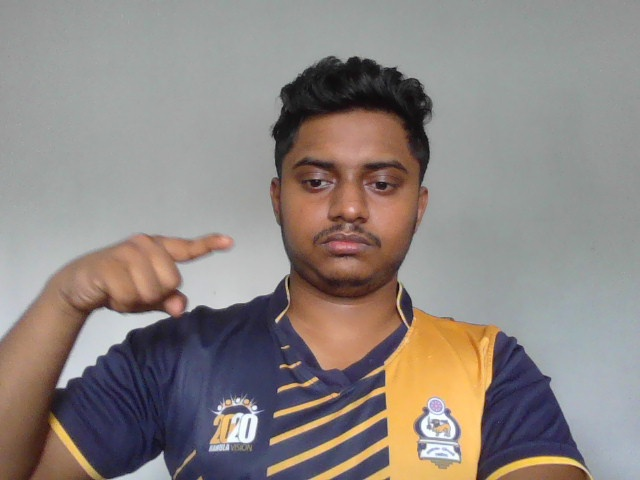Going To: (60, 226, 240, 324)
